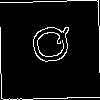Q: (25, 24, 70, 64)
